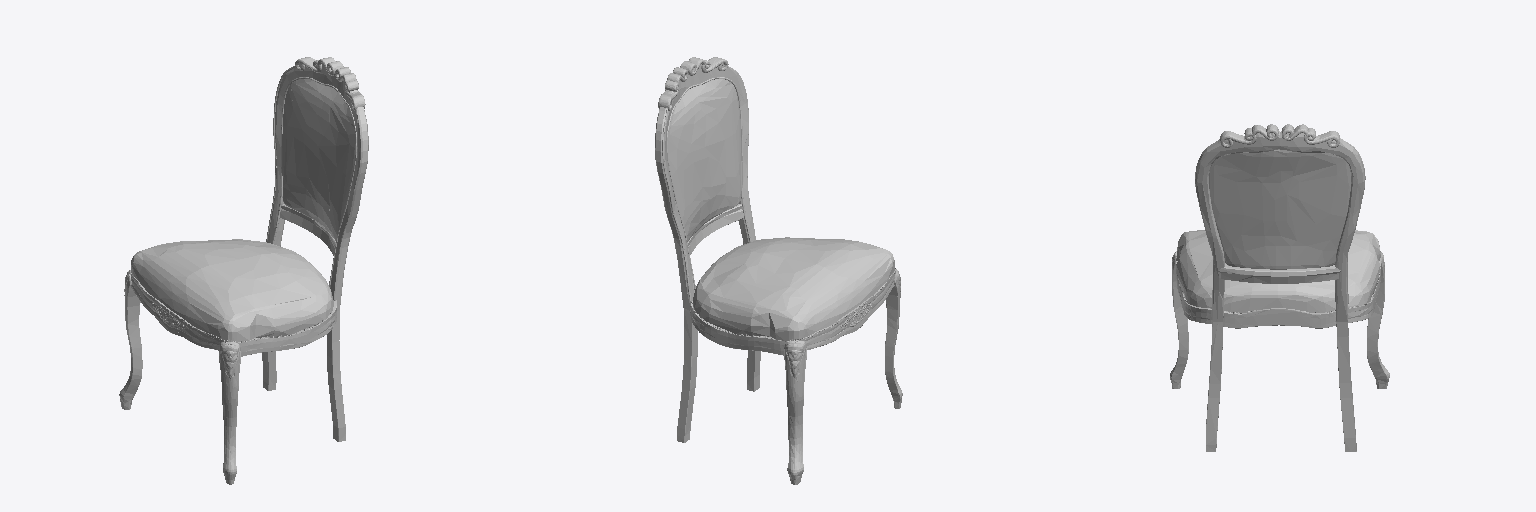
File: 12_8d47cb7b-eff9-46e1-924c-2e33eed6f20c.obj
3 views of the same model, side by side, from view 1: azimuth 30°, elevation 25°; view 2: azimuth 150°, elevation 25°; view 3: azimuth 270°, elevation 25° (orthographic).
Size of the model in its own units: 0.5931 by 1.08 by 0.6313.